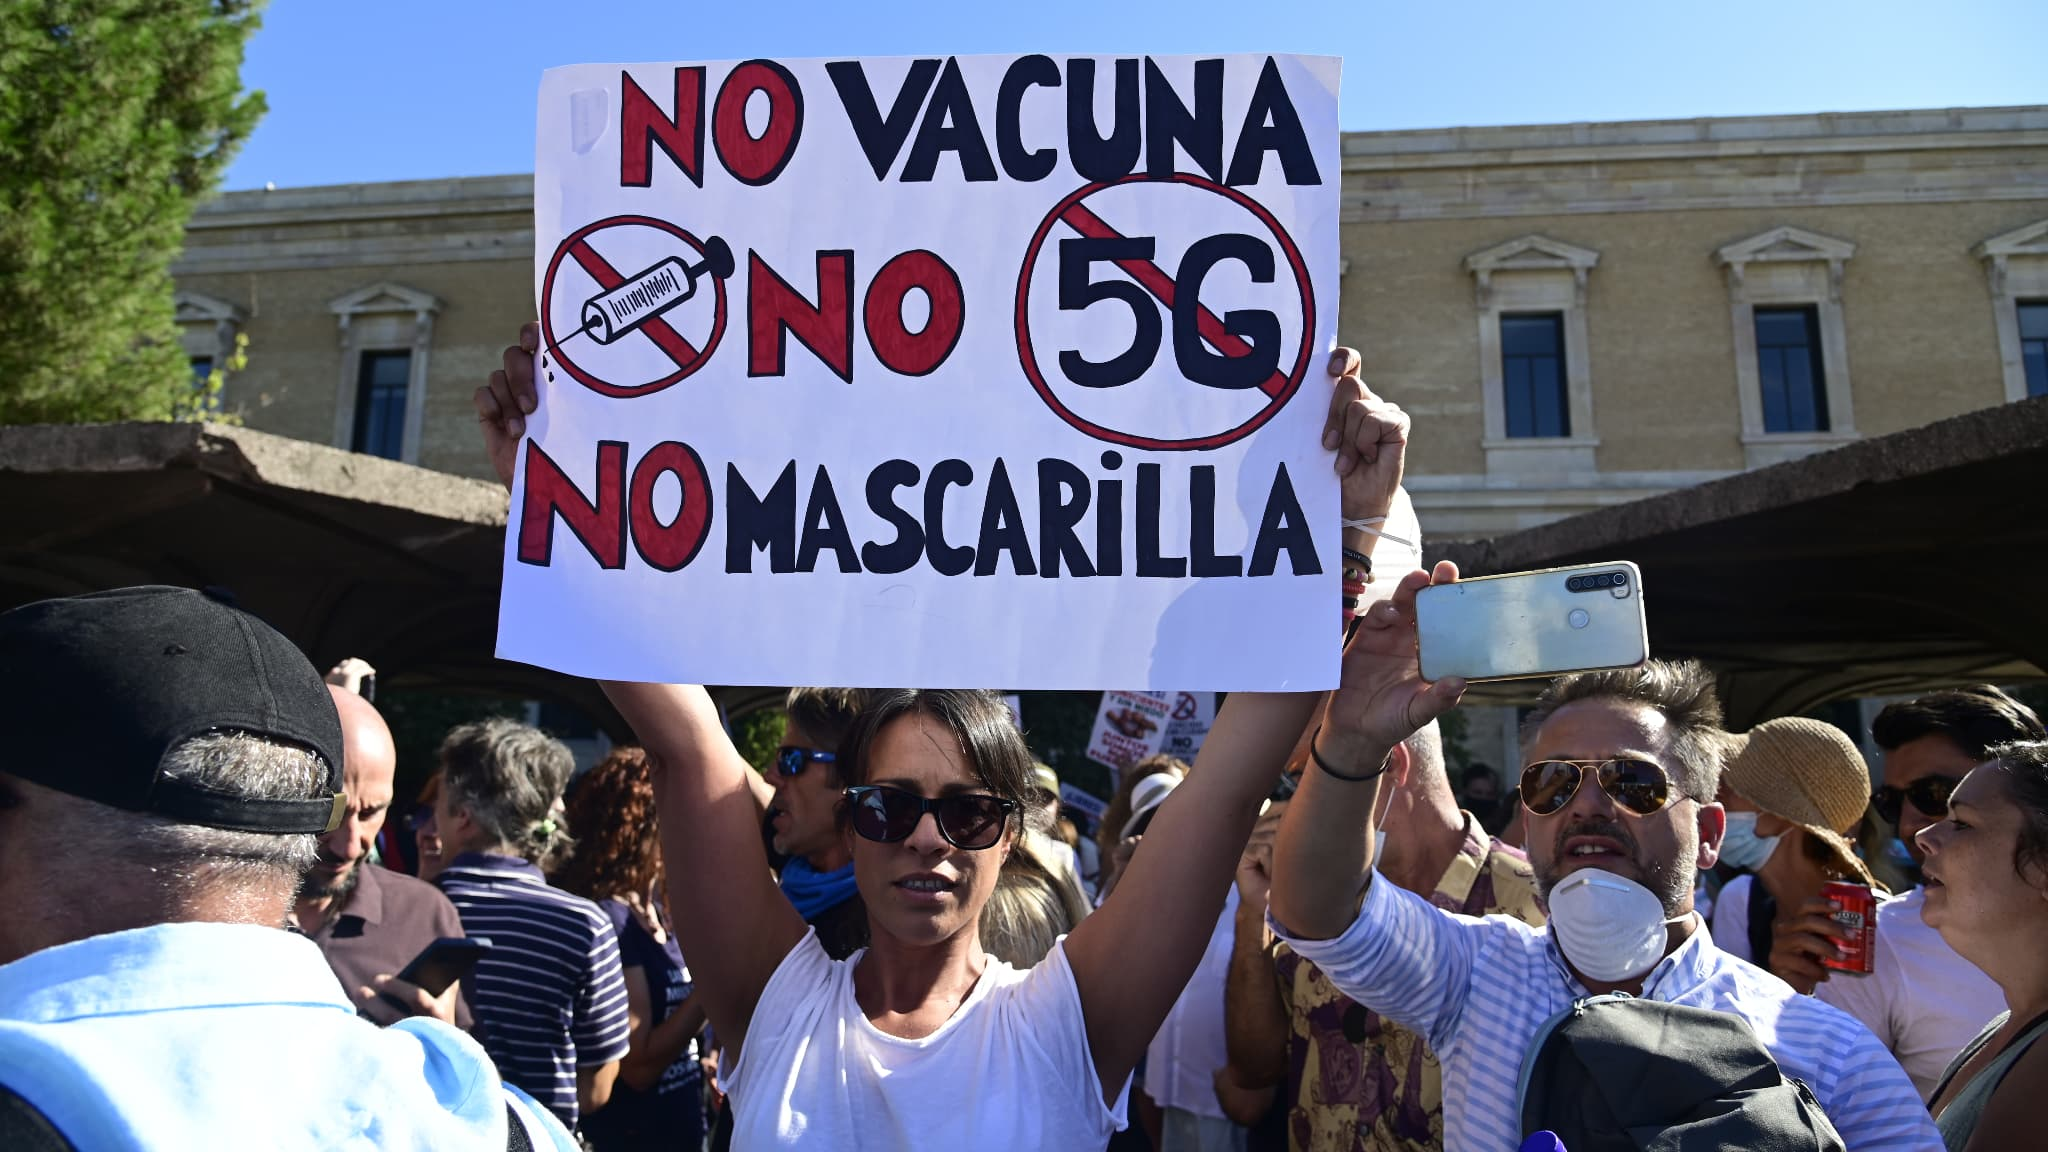with_incorrect_mask: (1542, 744, 1683, 958)
without_mask: (852, 755, 1000, 940), (1919, 790, 2013, 942)
